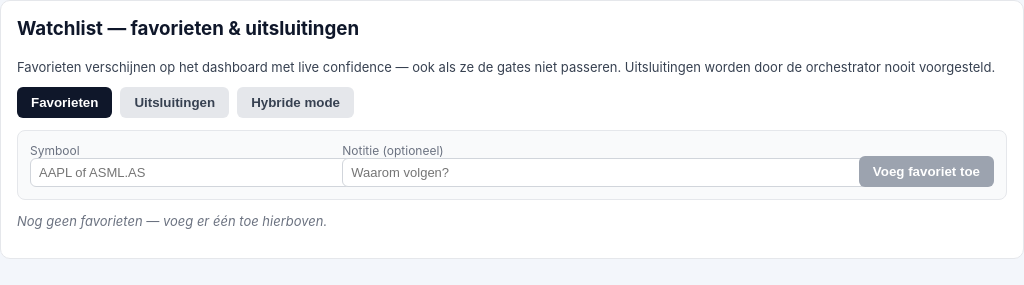
Scenario: WatchlistPreferencesSettings › submits a new favorite and refreshes the listing
Expected: the text "Nog geen favorieten — voeg er één toe hierboven." is shown, [17,213,327,229]
Type "MSFT" into the field with test id "watchlist-favorite-input-symbol". click: {"x": 191, "y": 172}
box: [30,158,352,187]
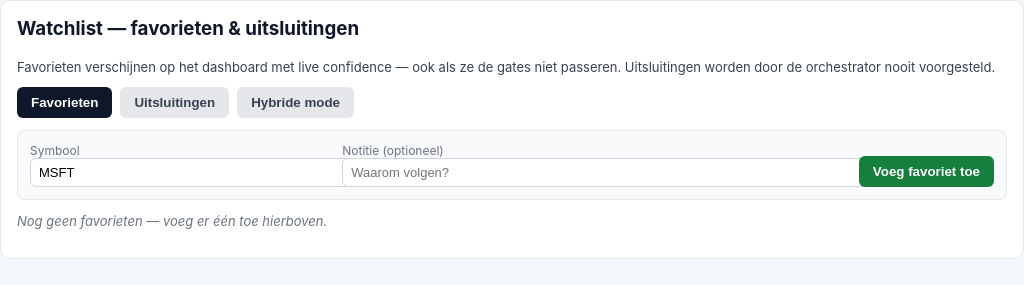
Click the button with test id "watchlist-favorite-submit". click: {"x": 926, "y": 171}
box: [859,156,994,187]
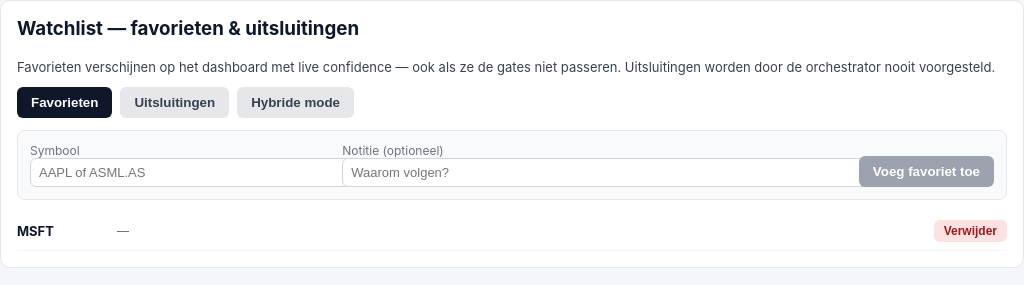
Expected: the list item with test id "watchlist-favorieten-row-MSFT" is shown, [17,212,1007,251]
